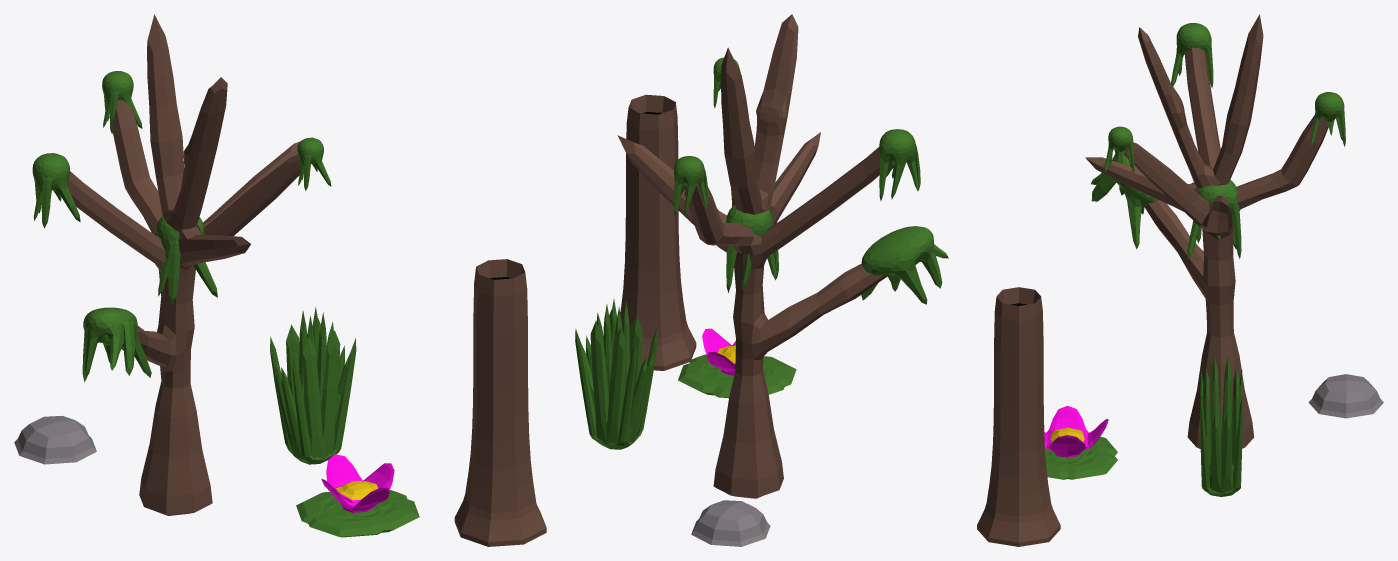
Rendered from SwampThingsV1.fbx.
3 renders of one model, left to right at view 1: azimuth 30°, elevation 25°; view 2: azimuth 150°, elevation 25°; view 3: azimuth 270°, elevation 25°, orthographic. The views are drawn at different scales.
Visible parts, largest first — view 1: Swamp Tree, Swamp Stump 1, Swamp Grass, Swamp Lily, Swamp Pebble; view 2: Swamp Tree, Swamp Stump 1, Swamp Grass, Swamp Lily, Swamp Pebble; view 3: Swamp Tree, Swamp Stump 1, Swamp Grass, Swamp Lily, Swamp Pebble.
Part boxes in pixels (x1,y1,x2,y2): Swamp Tree: [32, 14, 331, 515]; Swamp Stump 1: [454, 259, 546, 546]; Swamp Grass: [270, 307, 356, 464]; Swamp Lily: [296, 454, 419, 537]; Swamp Pebble: [14, 415, 96, 464]; Swamp Tree: [617, 14, 948, 498]; Swamp Stump 1: [620, 94, 696, 370]; Swamp Grass: [575, 299, 657, 449]; Swamp Lily: [678, 328, 796, 398]; Swamp Pebble: [691, 500, 770, 546]; Swamp Tree: [1085, 14, 1345, 448]; Swamp Stump 1: [977, 287, 1060, 546]; Swamp Grass: [1200, 356, 1242, 496]; Swamp Lily: [1044, 405, 1117, 479]; Swamp Pebble: [1308, 374, 1383, 418].
Size of the model in its own units: 1092 by 1204 by 1036.
